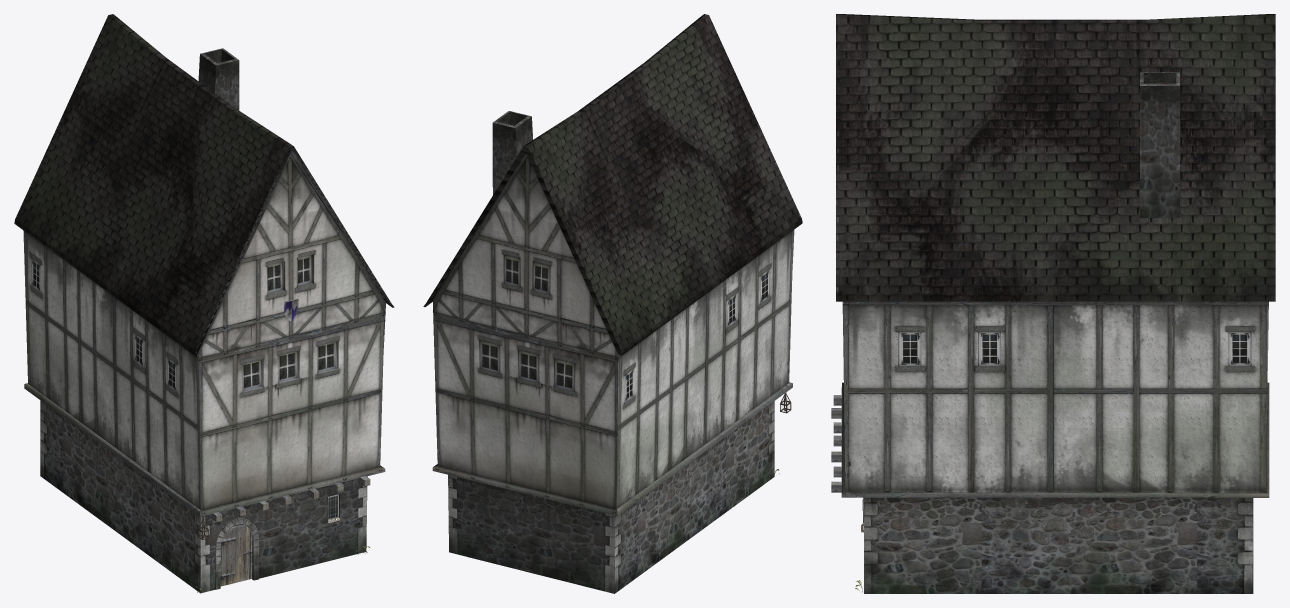
The model's file is fw43_lowpoly_n1.fbx.
The picture shows the model from 3 angles, left to right: view 1: azimuth 30°, elevation 25°; view 2: azimuth 150°, elevation 25°; view 3: azimuth 270°, elevation 25°; orthographic projection. The views are drawn at different scales.
Parts seen in each view (by area): view 1: obj0; view 2: obj0; view 3: obj0.
Boxes of the visible parts, <box> form: obj0: <box>14,14,394,593</box>; obj0: <box>423,14,802,593</box>; obj0: <box>831,14,1275,593</box>.
Bounding box in the file's own units: 21.46 × 44.82 × 34.14.
Materials: 21 (21 with a texture image).
